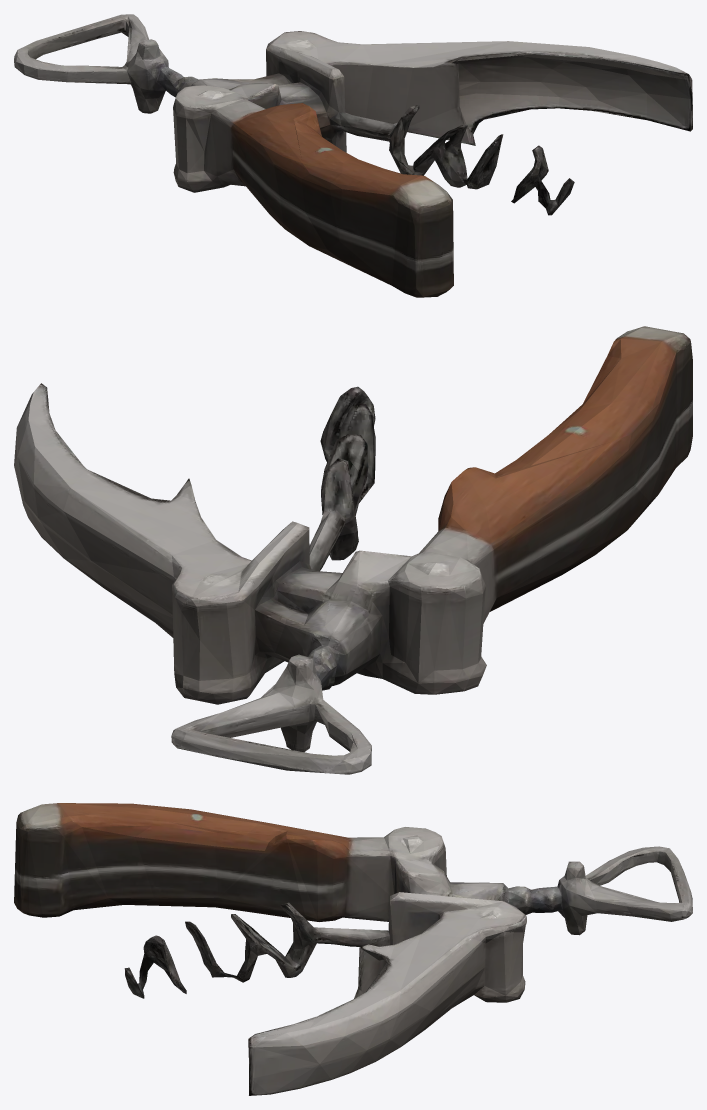
The model's file is corkscrew.glb.
3 renders of one model, top to bottom at view 1: azimuth 30°, elevation 25°; view 2: azimuth 150°, elevation 25°; view 3: azimuth 270°, elevation 25°, orthographic. The views are drawn at different scales.
Parts seen in each view (by area): view 1: corkscrew; view 2: corkscrew; view 3: corkscrew.
Boxes of the visible parts, x1=… form: corkscrew: x1=14, y1=14, x2=692, y2=297; corkscrew: x1=14, y1=326, x2=692, y2=774; corkscrew: x1=14, y1=803, x2=692, y2=1095.
Bounding box in the file's own units: 0.5351 × 0.1508 × 0.6947.
Materials: 1 (1 with a texture image).
